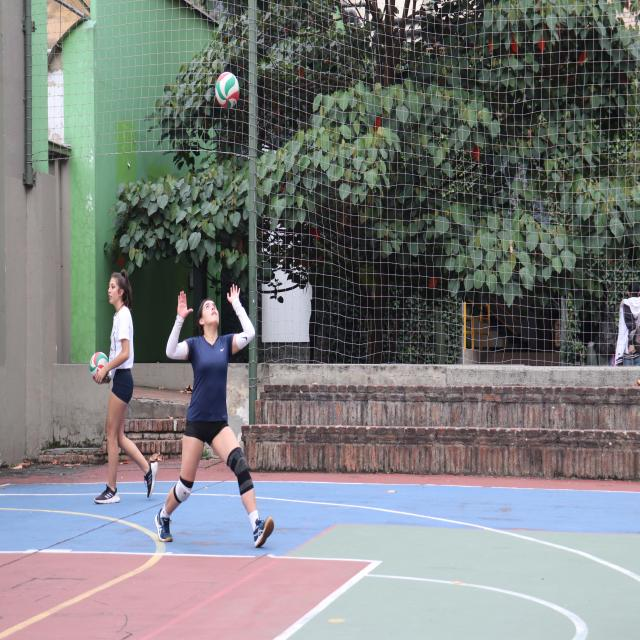volleyball: (215, 71, 240, 109), (90, 352, 109, 378)
